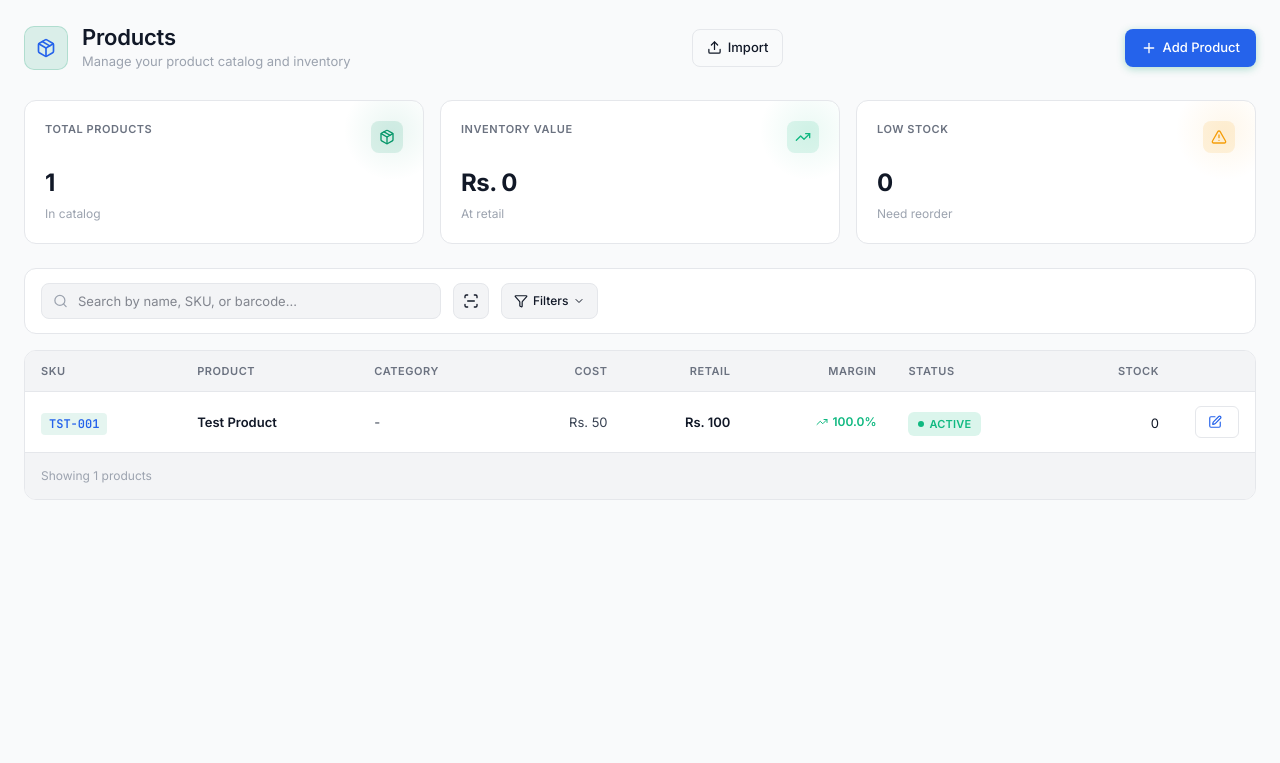
Test: track_stock radio › defaults to Yes (true) on create form
Click the button "Add Product" at (1190, 48), box [1125,29,1256,67]
(page scrolled)
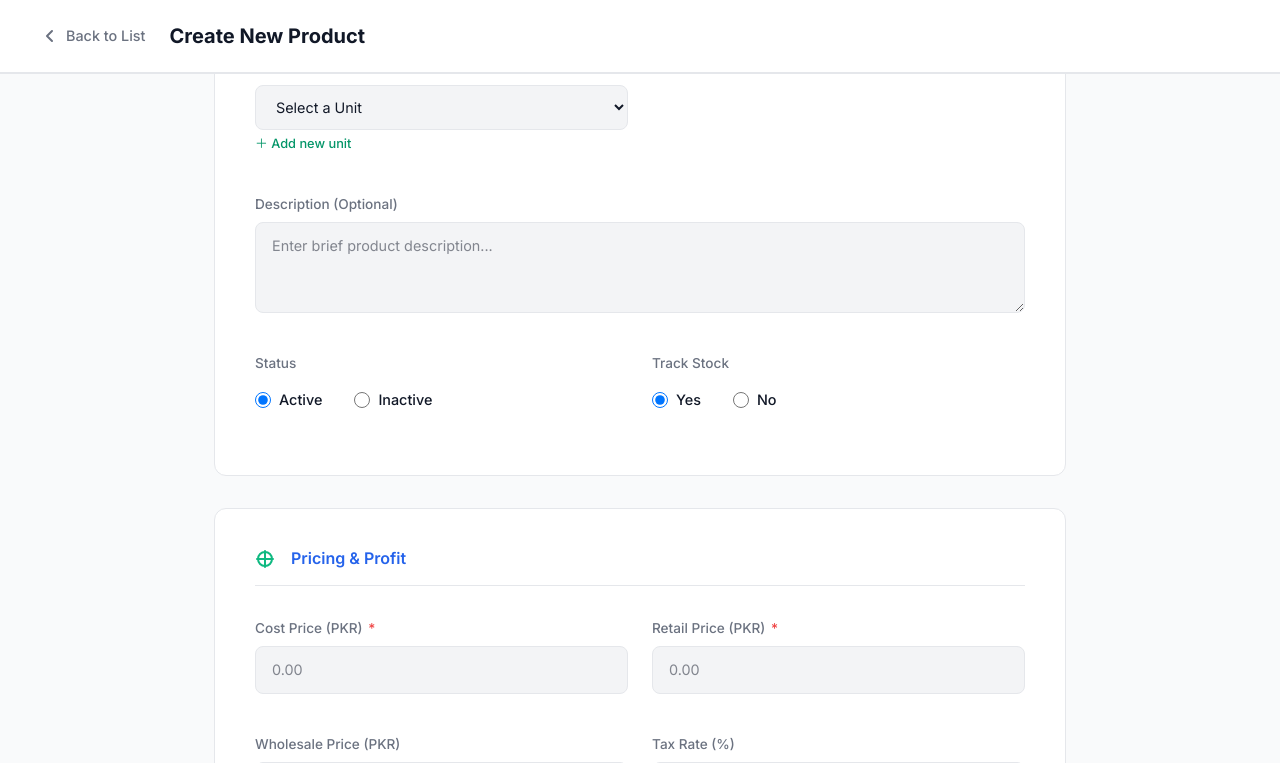
Expected: the radio button labelled "Yes" is checked, [652,392,668,408]
Expected: the radio button labelled "No" is not checked, [733,392,749,408]
